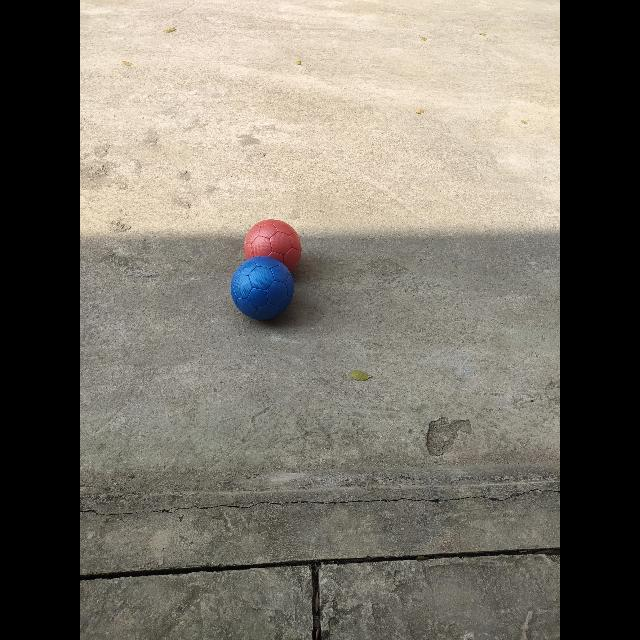B: (231, 256, 294, 320)
R: (243, 220, 302, 272)
